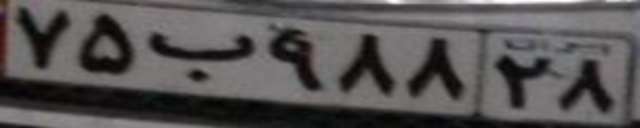2: (492, 53, 549, 108)
5: (75, 11, 134, 74)
7: (12, 5, 67, 70)
8: (553, 57, 617, 114), (336, 35, 395, 94), (407, 37, 462, 98)
9: (267, 27, 319, 89)
be: (148, 33, 255, 83)
